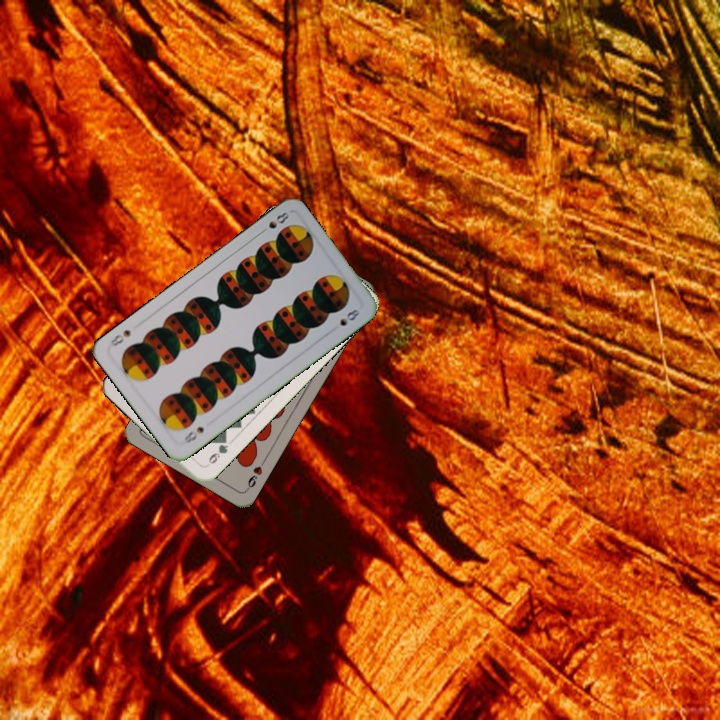G9: (202, 434, 231, 469)
H9: (242, 456, 267, 493)
S8: (256, 207, 292, 237), (180, 422, 207, 446)
